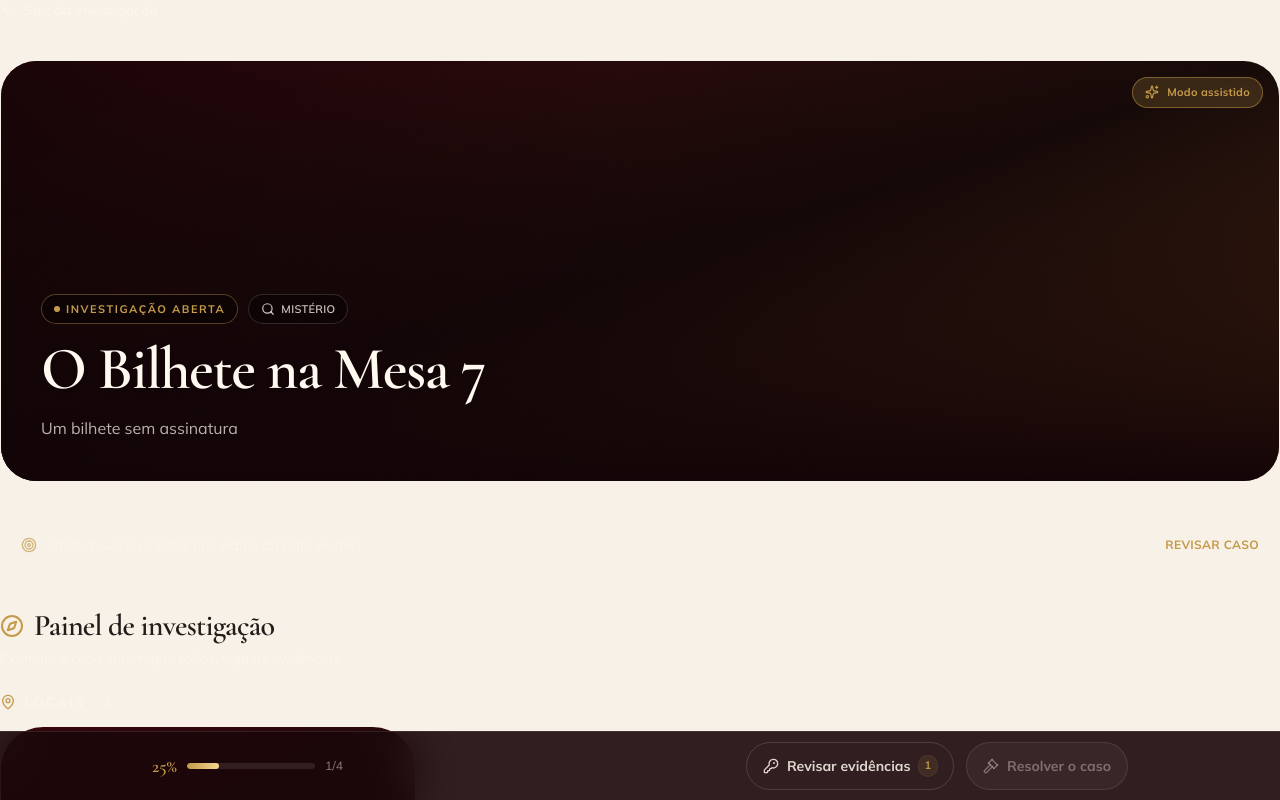
SessionHub › shows collected evidence in the review modal
The width and height of the screenshot is (1280, 800).
Expected: the text "Tinta azul" is not shown
Click the button "Revisar evidências 1": (850, 766) [746,742,954,790]
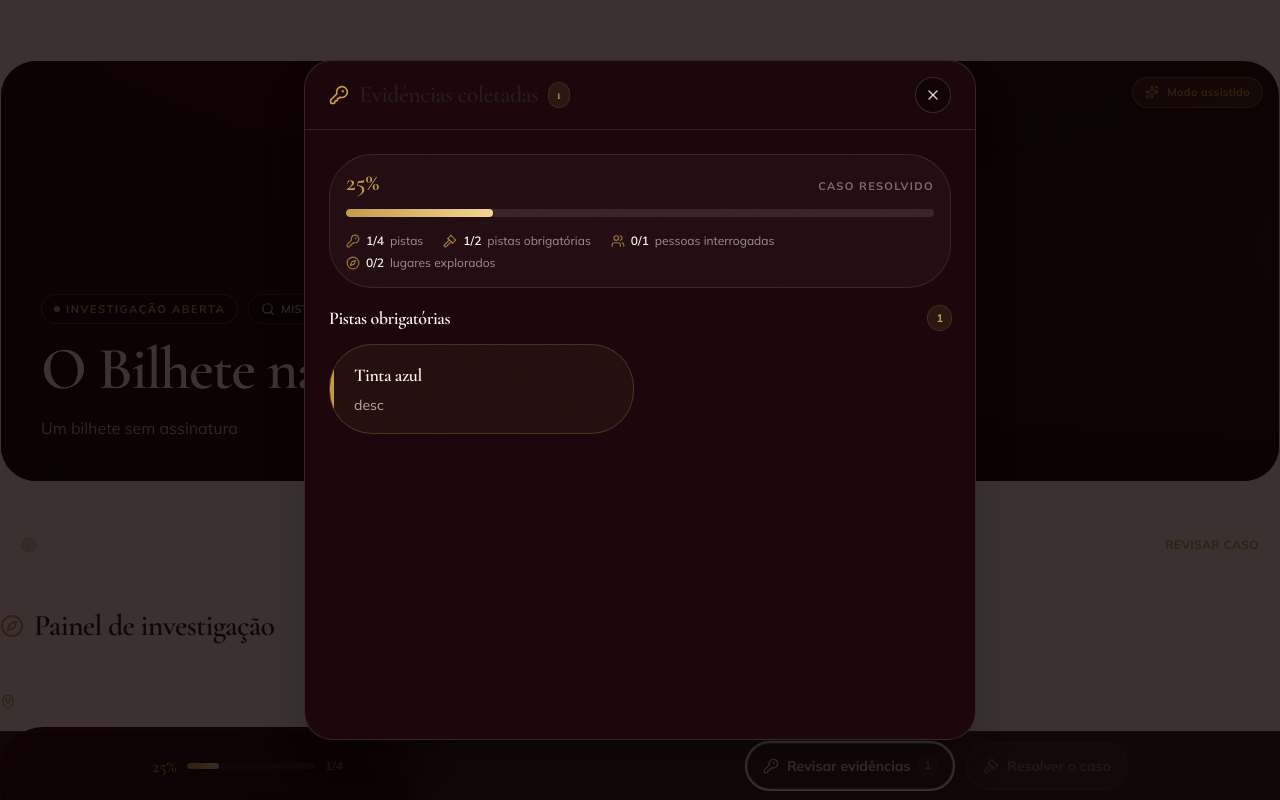
Result: the heading "Pistas obrigatórias" is shown at [329,304,450,332]
Result: the heading "Tinta azul" is shown at [354,364,422,386]
